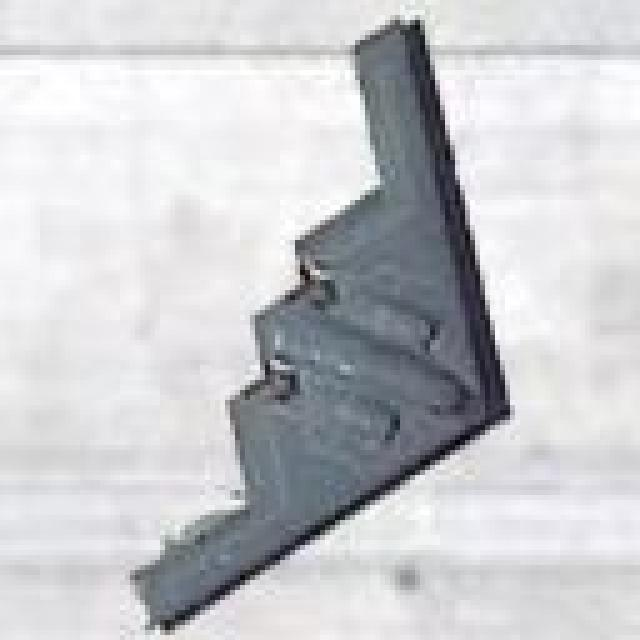B-2_TopDown: (125, 10, 515, 635)
